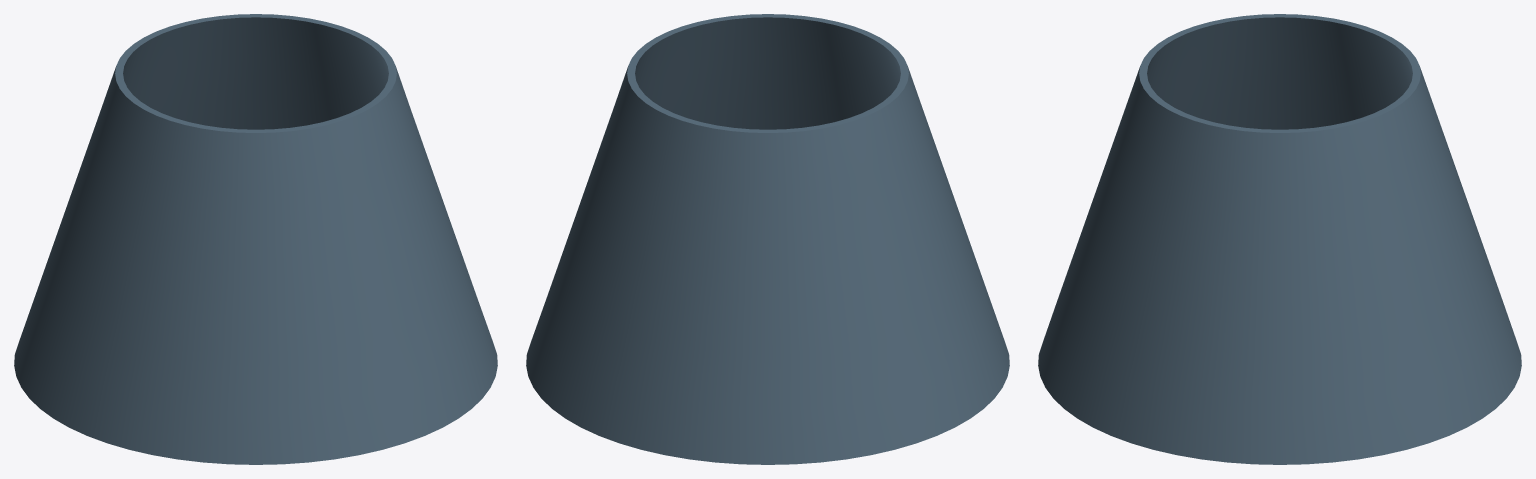
File: perehod-273x7-159x4_5-L180.glb
3 views of the same model, side by side, from view 1: azimuth 30°, elevation 25°; view 2: azimuth 150°, elevation 25°; view 3: azimuth 270°, elevation 25° (orthographic).
Visible parts, largest first — view 1: Open CASCADE STEP translator 7.9 47; view 2: Open CASCADE STEP translator 7.9 47; view 3: Open CASCADE STEP translator 7.9 47.
Boxes of the visible parts, bbox=[...] form: Open CASCADE STEP translator 7.9 47: bbox=[14, 14, 497, 464]; Open CASCADE STEP translator 7.9 47: bbox=[526, 14, 1009, 464]; Open CASCADE STEP translator 7.9 47: bbox=[1038, 14, 1521, 464].
Bounding box in the file's own units: 273 × 180 × 273.
